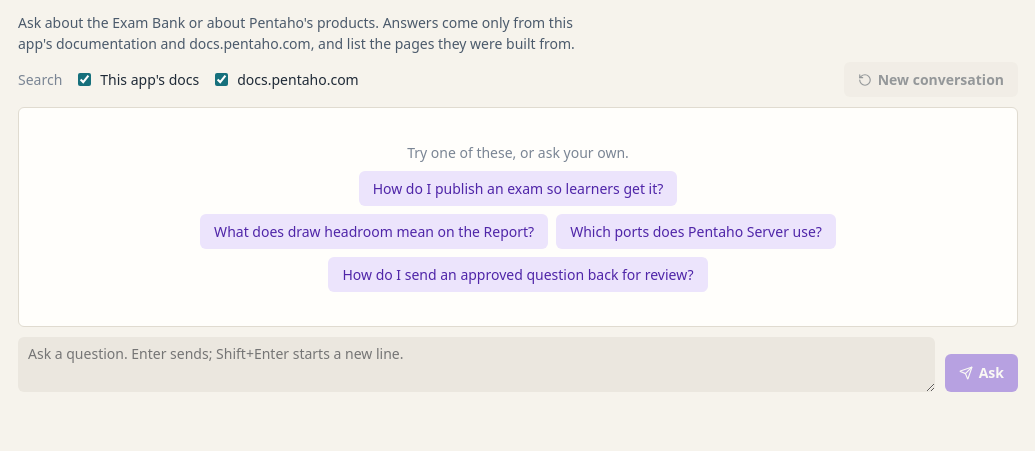
Test: when there is no answer › says when docs.pentaho.com could not be searched
Step 1. Type "How do I publish an exam?" into the text box named "Your question" → x=476, y=364, box [18,337,935,392]
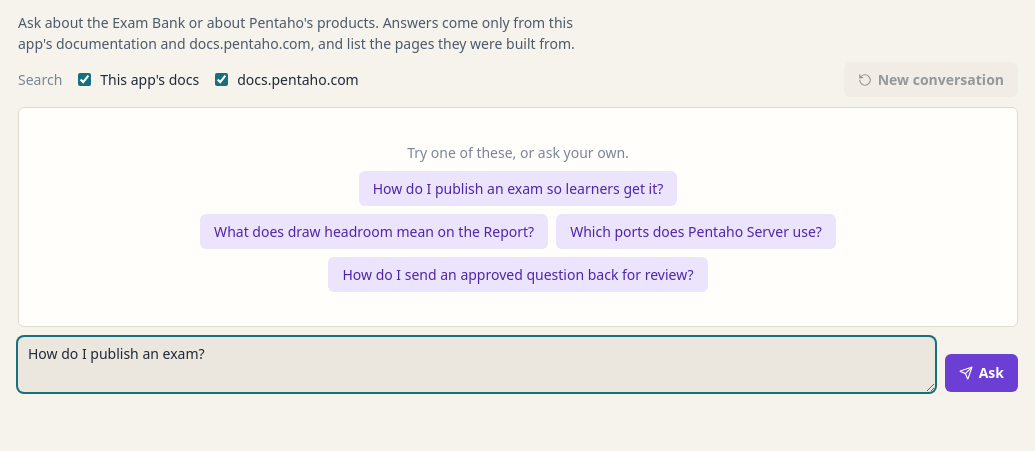
Step 2. Click the button "Ask" → x=981, y=373, box [945,354,1018,392]
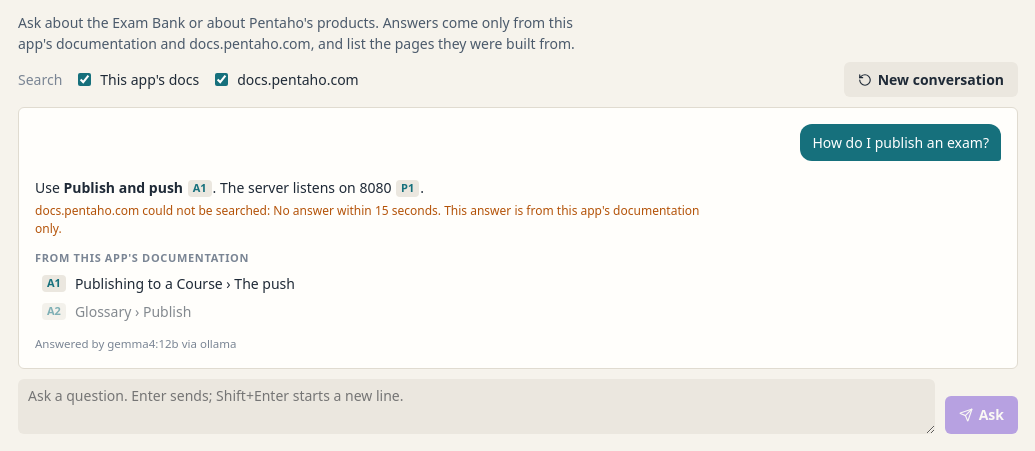
Now the text "docs.pentaho.com could not be searched: No answer within 15 seconds." is shown, box [35,202,708,238]
Now the text "from this app's documentation only" is shown, box [35,202,700,237]
